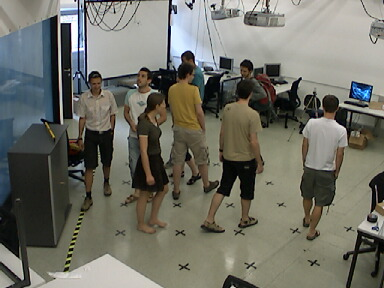person: (224, 79, 268, 244), (165, 63, 213, 192), (134, 91, 173, 238), (76, 67, 115, 209), (304, 92, 342, 237), (131, 59, 154, 91), (238, 58, 255, 78), (182, 50, 200, 65)
